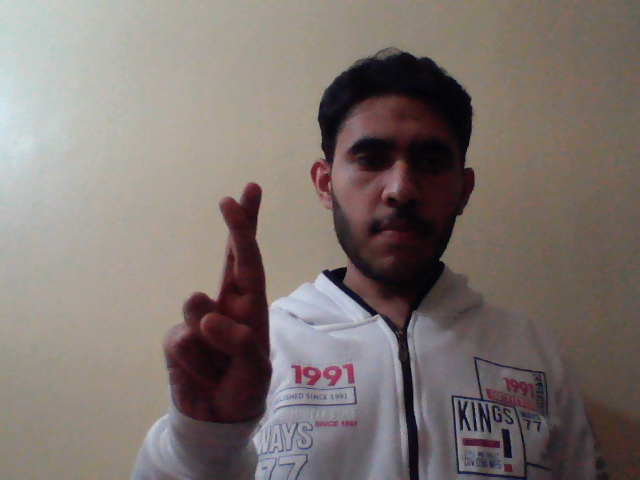R: (162, 177, 273, 436)
